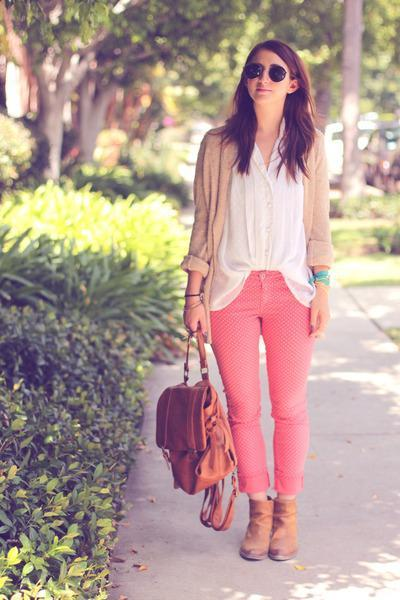bag: (156, 337, 245, 530)
jacket: (180, 120, 338, 275)
pants: (210, 270, 321, 497)
shirt: (210, 140, 316, 310)
shoe: (239, 476, 303, 561)
